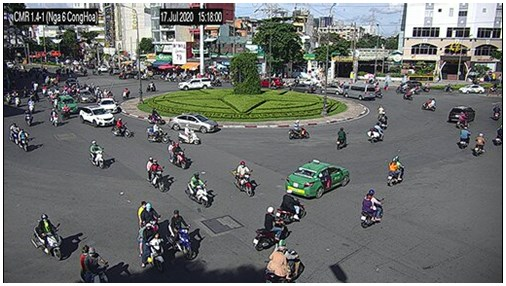xe_hoi: (285, 160, 349, 198), (169, 115, 219, 135), (78, 107, 114, 129), (178, 78, 211, 91), (58, 94, 77, 114), (98, 97, 117, 115), (320, 83, 343, 96), (459, 84, 485, 95), (289, 83, 315, 93), (77, 90, 95, 104), (259, 78, 283, 87), (66, 78, 78, 89)
xe_khach: (344, 84, 376, 101)
xe_may: (267, 239, 304, 282), (33, 214, 64, 261), (139, 220, 165, 275), (256, 207, 288, 249), (169, 209, 191, 260), (81, 245, 109, 283), (278, 189, 305, 227), (362, 189, 384, 230), (187, 172, 207, 207), (232, 161, 252, 196), (138, 202, 160, 233), (147, 156, 165, 192), (166, 140, 186, 169), (146, 121, 170, 144), (387, 155, 405, 185), (89, 139, 104, 169), (111, 118, 131, 139), (179, 125, 200, 145), (289, 120, 310, 139), (368, 123, 384, 144), (472, 133, 486, 156), (17, 128, 29, 153), (458, 125, 470, 150), (147, 108, 164, 125), (337, 128, 348, 150), (420, 97, 437, 111), (9, 121, 18, 143), (22, 109, 33, 127), (493, 125, 502, 147), (402, 87, 416, 100), (50, 108, 59, 127), (378, 111, 386, 130), (13, 89, 21, 107), (459, 110, 467, 128), (145, 81, 158, 92), (27, 98, 35, 115), (62, 104, 70, 119), (493, 104, 500, 121), (122, 87, 131, 100), (5, 92, 12, 104)
